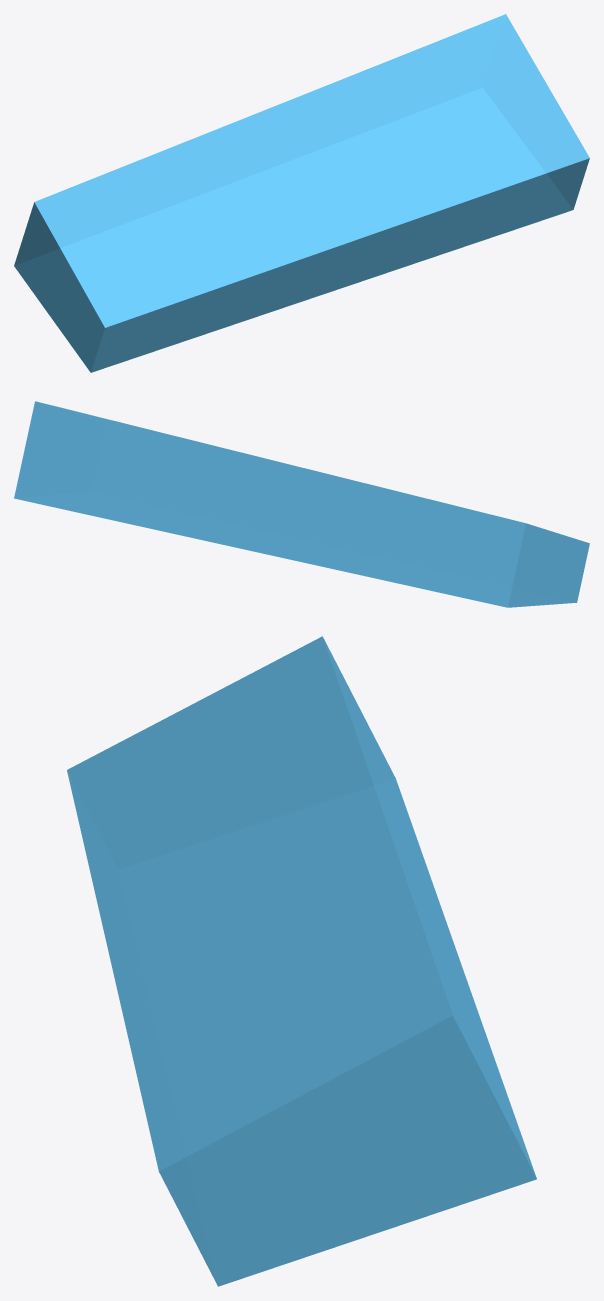
Rendered from Event_421364160_HErechit_62.fbx.
The picture shows the model from 3 angles, top to bottom: view 1: azimuth 30°, elevation 25°; view 2: azimuth 150°, elevation 25°; view 3: azimuth 270°, elevation 25°; orthographic projection. The views are drawn at different scales.
Visible parts, largest first — view 1: Model; view 2: Model; view 3: Model.
Part boxes in pixels (box(x1,y1,x2,y2)): Model: box(14, 14, 589, 372); Model: box(14, 401, 589, 607); Model: box(67, 636, 536, 1286).
Bounding box in the file's own units: 1.68 × 0.5274 × 0.7443.
